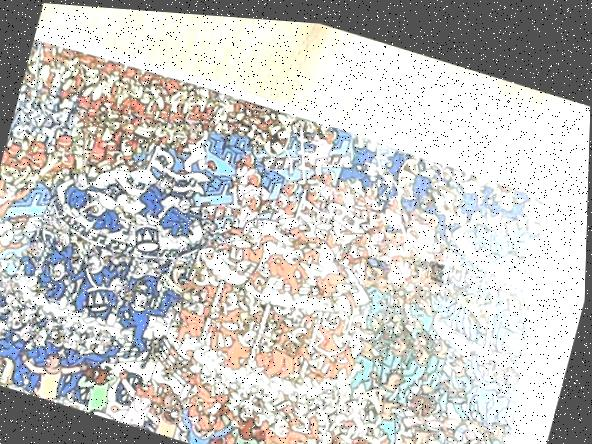waldo: (428, 254, 451, 279)
